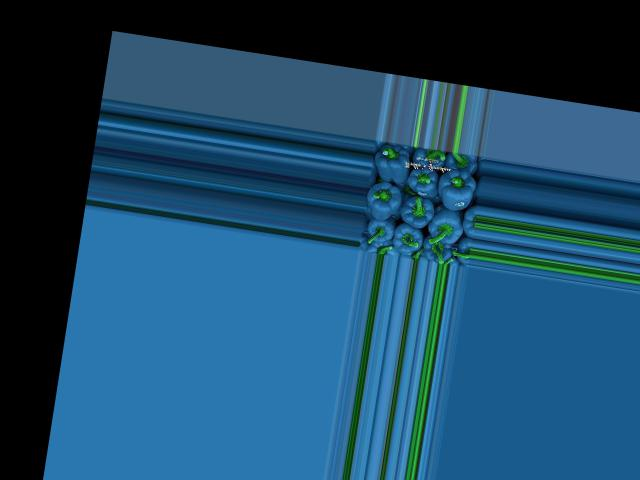bell_pepper: (441, 150, 482, 179)
